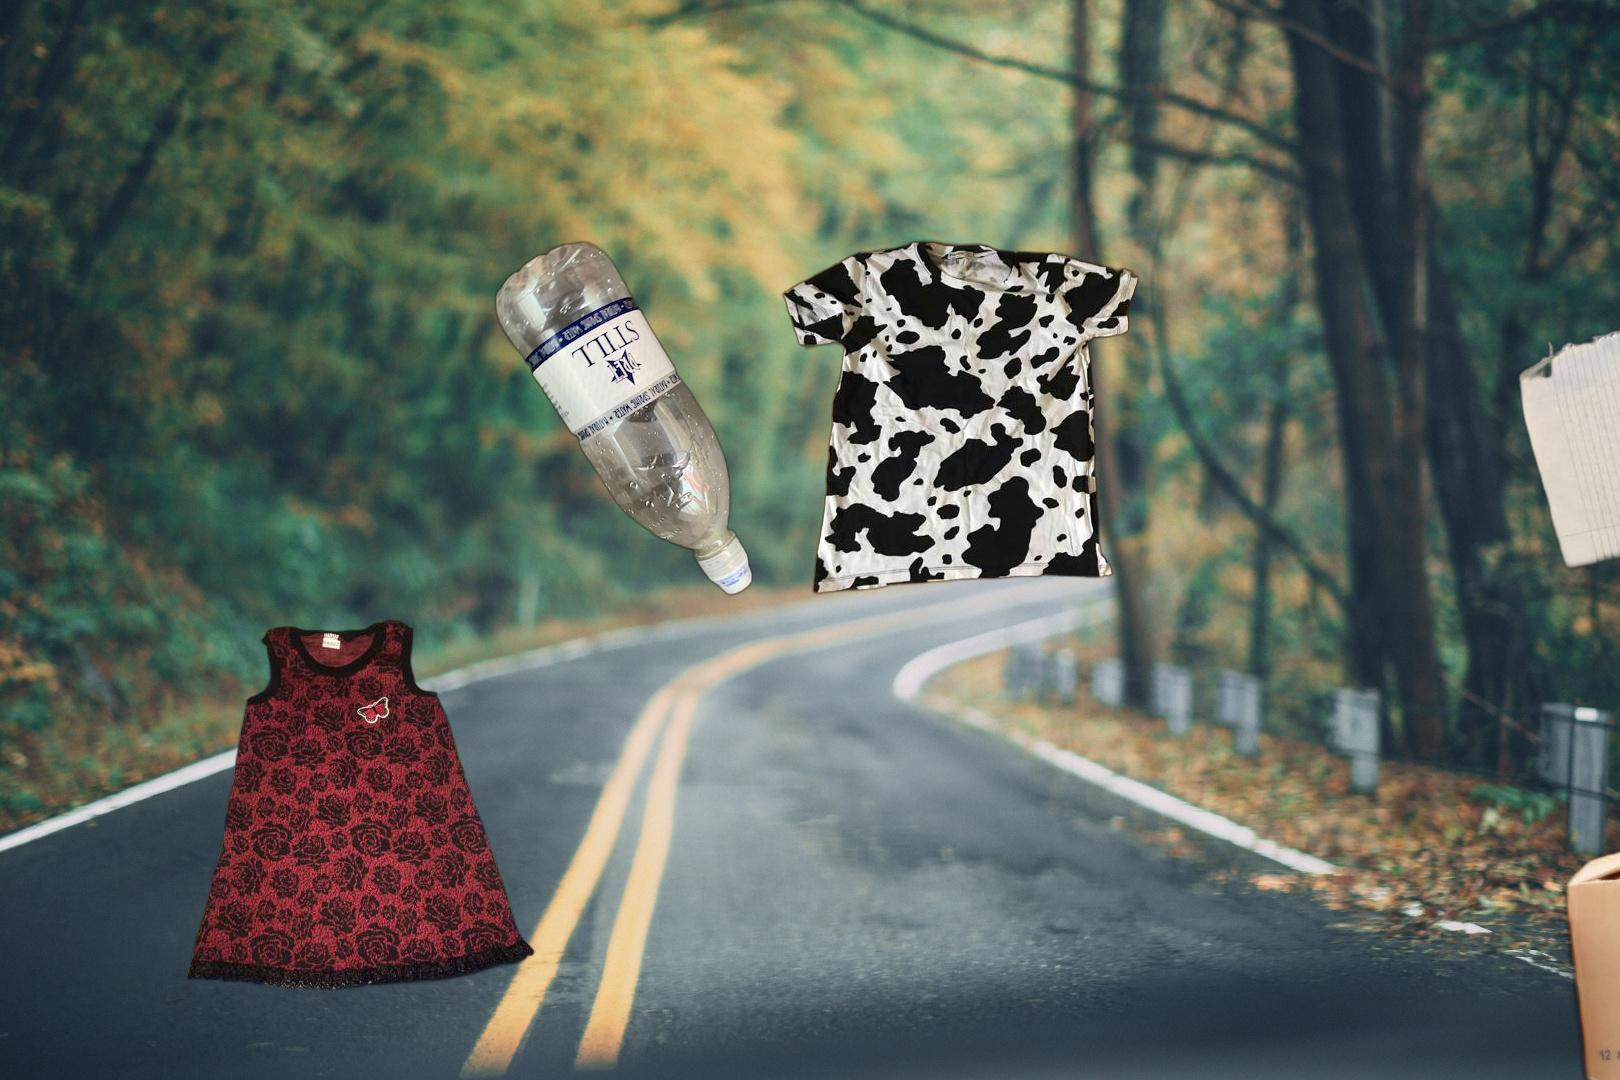clothes: (94, 605, 539, 994), (779, 236, 1141, 598)
paper: (1514, 283, 1620, 573)
plastic-bottles: (491, 235, 757, 601)
trashbox-cardboard: (1552, 827, 1620, 1080)
